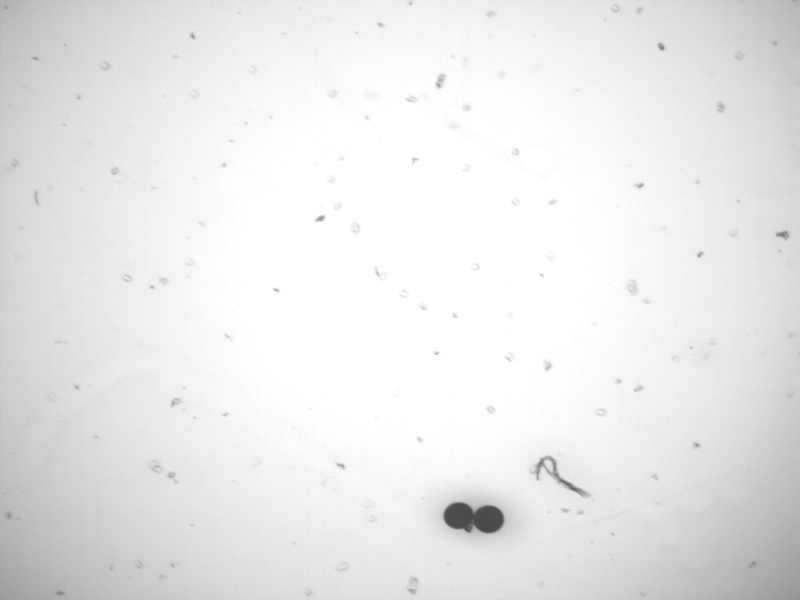bead: (442, 500, 475, 532), (473, 502, 505, 535)
fiber: (532, 452, 594, 501)
